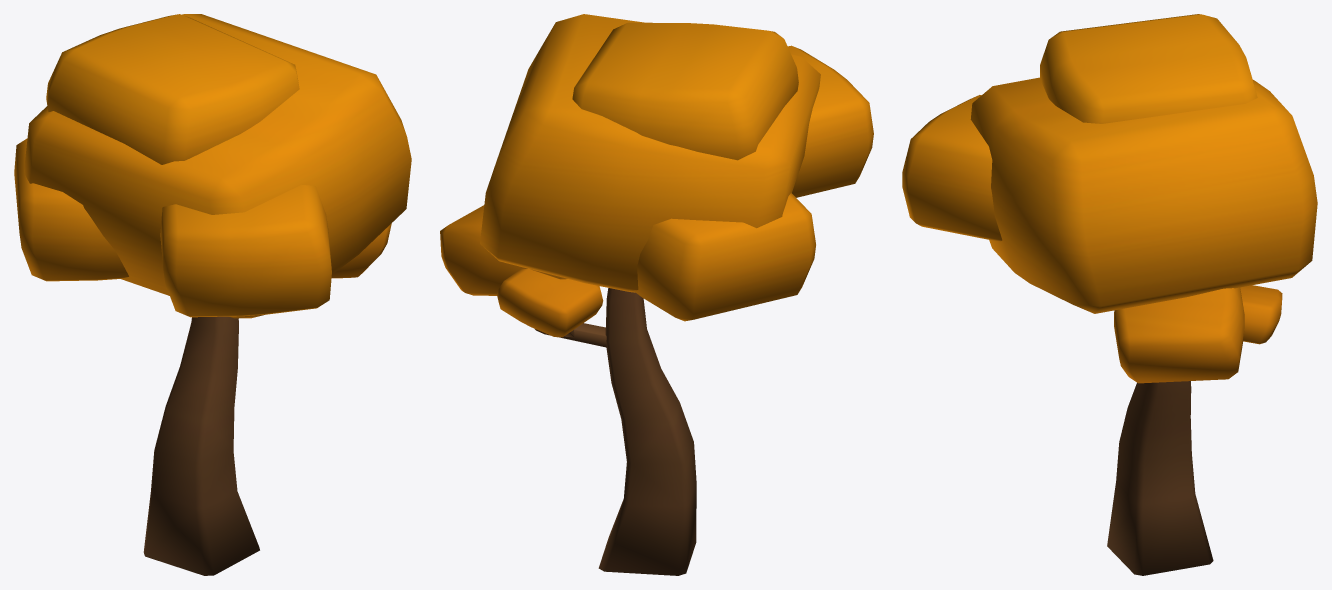
File: Tree_2_3.obj
3 views of the same model, side by side, from view 1: azimuth 30°, elevation 25°; view 2: azimuth 150°, elevation 25°; view 3: azimuth 270°, elevation 25° (orthographic). The views are drawn at different scales.
Parts seen in each view (by area): view 1: Tree_2_3; view 2: Tree_2_3; view 3: Tree_2_3.
Boxes of the visible parts, x1,y1,x2,y2 form: Tree_2_3: (14, 14, 411, 575); Tree_2_3: (440, 14, 873, 575); Tree_2_3: (902, 14, 1317, 575).
Size of the model in its own units: 2.43 by 3.37 by 2.59.
